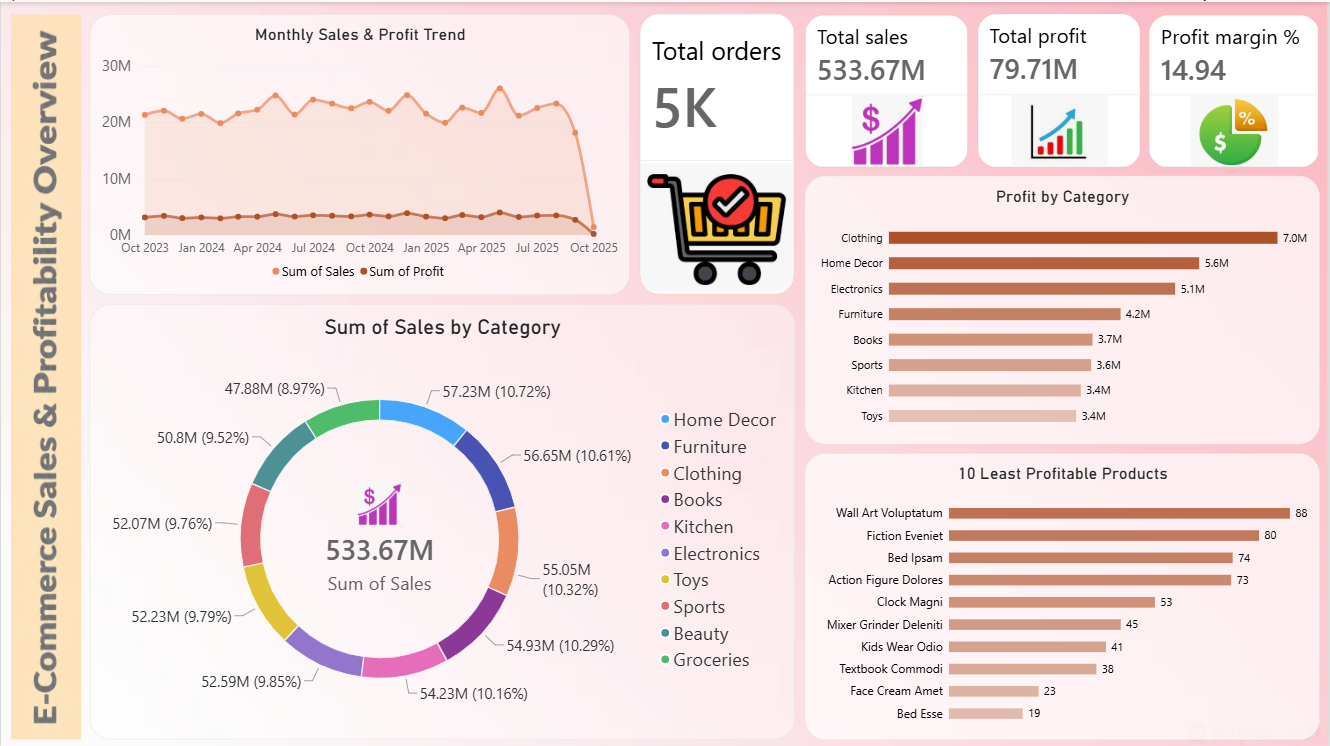

This screenshot's page, from the dashboard's own definition file:
{"tool":"powerbi","page":{"name":"Page 1","canvas":[1920,1080],"ordinal":0},"visuals":[{"type":"cardVisual","fields":{"Data":["cleaned_sales_data.Total orders"]},"box":[924.7,16.3,224.4,407.2],"z":0},{"type":"cardVisual","fields":{"Data":["cleaned_sales_data.Total profit"]},"box":[1413,16.3,237.1,224.4],"z":1000},{"type":"cardVisual","fields":{"Data":["cleaned_sales_data.Total sales"]},"box":[1163.6,18.1,237.1,222.6],"z":2000},{"type":"cardVisual","fields":{"Data":["cleaned_sales_data.Profit margin %"]},"box":[1661.3,18.1,247.9,222.6],"z":3000},{"type":"lineChart","title":"Monthly Sales & Profit Trend","fields":{"Category":["cleaned_sales_data.Order Month"],"Y":["Sum(cleaned_sales_data.Sales)","Sum(cleaned_sales_data.Profit)"]},"box":[128.5,18.1,781.8,405.4],"z":4000},{"type":"clusteredBarChart","title":"Profit by Category","fields":{"Category":["cleaned_sales_data.Category"],"Y":["Sum(cleaned_sales_data.Profit)"]},"box":[1163.6,251.5,745.6,389.1],"z":5000},{"type":"clusteredBarChart","title":"10 Least Profitable Products","fields":{"Category":["cleaned_sales_data.Product Name"],"Y":["Sum(cleaned_sales_data.Profit)"]},"box":[1163.6,653.3,745.6,415],"z":6000},{"type":"donutChart","fields":{"Category":["cleaned_sales_data.Category"],"Y":["Sum(cleaned_sales_data.Sales)"]},"box":[128.5,437.9,1020.6,629.8],"z":7000},{"type":"image","box":[14.5,18.1,101.3,1049.6],"z":8000}]}

Visuals, with their boxes in screenshot pixels (x1, y1, x2, y2), scaled from the page's 1920x1080 canvas onto the 1330x746 screenshot:
cardVisual - cleaned_sales_data.Total orders: [left=641, top=11, right=796, bottom=293]
cardVisual - cleaned_sales_data.Total profit: [left=979, top=11, right=1143, bottom=166]
cardVisual - cleaned_sales_data.Total sales: [left=806, top=13, right=970, bottom=166]
cardVisual - cleaned_sales_data.Profit margin %: [left=1151, top=13, right=1323, bottom=166]
"Monthly Sales & Profit Trend" lineChart: [left=89, top=13, right=631, bottom=293]
"Profit by Category" clusteredBarChart: [left=806, top=174, right=1323, bottom=442]
"10 Least Profitable Products" clusteredBarChart: [left=806, top=451, right=1323, bottom=738]
donutChart - cleaned_sales_data.Category x Sum(cleaned_sales_data.Sales): [left=89, top=302, right=796, bottom=738]
image: [left=10, top=13, right=80, bottom=738]
